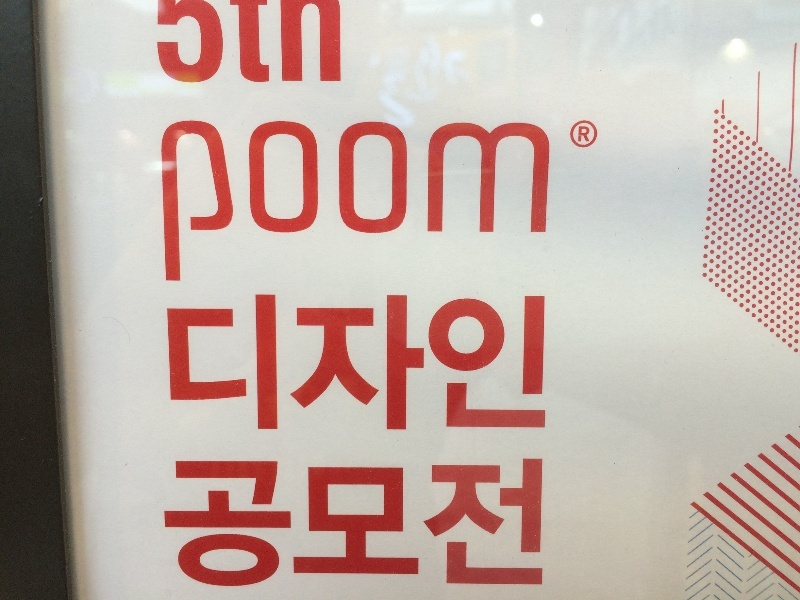text: (161, 117, 176, 287), (177, 117, 192, 287), (193, 117, 208, 287), (209, 117, 224, 287), (225, 117, 240, 287), (241, 117, 256, 287), (257, 117, 272, 287), (273, 117, 288, 287), (289, 117, 304, 287), (305, 117, 320, 287), (321, 117, 336, 287), (337, 117, 352, 287), (353, 117, 368, 287), (369, 117, 384, 287), (385, 117, 400, 287), (401, 117, 416, 287), (417, 117, 432, 287), (433, 117, 448, 287), (449, 117, 464, 287), (465, 117, 480, 287), (481, 117, 496, 287), (497, 117, 512, 287), (513, 117, 528, 287), (529, 117, 544, 287), (177, 291, 192, 437), (193, 291, 208, 437), (209, 291, 224, 437), (225, 291, 240, 437), (241, 291, 256, 437), (257, 291, 272, 437), (273, 291, 288, 437), (289, 291, 304, 437), (305, 291, 320, 437), (321, 291, 336, 437), (337, 291, 352, 437), (353, 291, 368, 437), (369, 291, 384, 437), (385, 291, 400, 437), (401, 291, 416, 437), (417, 291, 432, 437), (433, 291, 448, 437), (449, 291, 464, 437), (465, 291, 480, 437), (481, 291, 496, 437), (497, 291, 512, 437), (513, 291, 528, 437), (529, 291, 544, 437), (177, 456, 192, 589), (193, 456, 208, 589), (209, 456, 224, 589), (225, 456, 240, 589), (241, 456, 256, 589), (257, 456, 272, 589), (273, 456, 288, 589), (289, 456, 304, 589), (305, 456, 320, 589), (321, 456, 336, 589), (337, 456, 352, 589), (353, 456, 368, 589), (369, 456, 384, 589), (385, 456, 400, 589), (401, 456, 416, 589), (417, 456, 432, 589), (433, 456, 448, 589), (449, 456, 464, 589), (465, 456, 480, 589), (481, 456, 496, 589), (497, 456, 512, 589), (513, 456, 528, 589), (529, 456, 544, 589), (165, 456, 176, 589), (166, 291, 176, 437), (161, 3, 176, 87), (177, 3, 192, 87), (193, 3, 208, 87), (209, 3, 224, 87), (225, 3, 240, 87), (241, 3, 256, 87), (257, 3, 272, 87), (273, 3, 288, 87), (289, 3, 304, 87), (305, 3, 320, 87), (321, 3, 336, 87), (545, 117, 552, 287), (545, 291, 551, 437), (337, 3, 345, 87), (153, 3, 160, 87), (545, 456, 548, 589), (578, 126, 592, 148)
